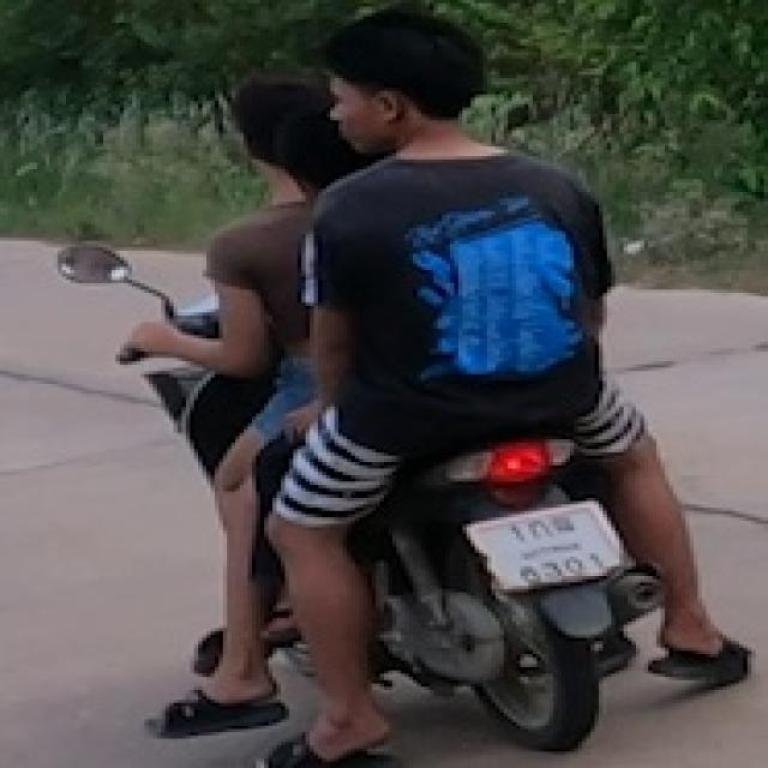license plate: (454, 494, 633, 591)
